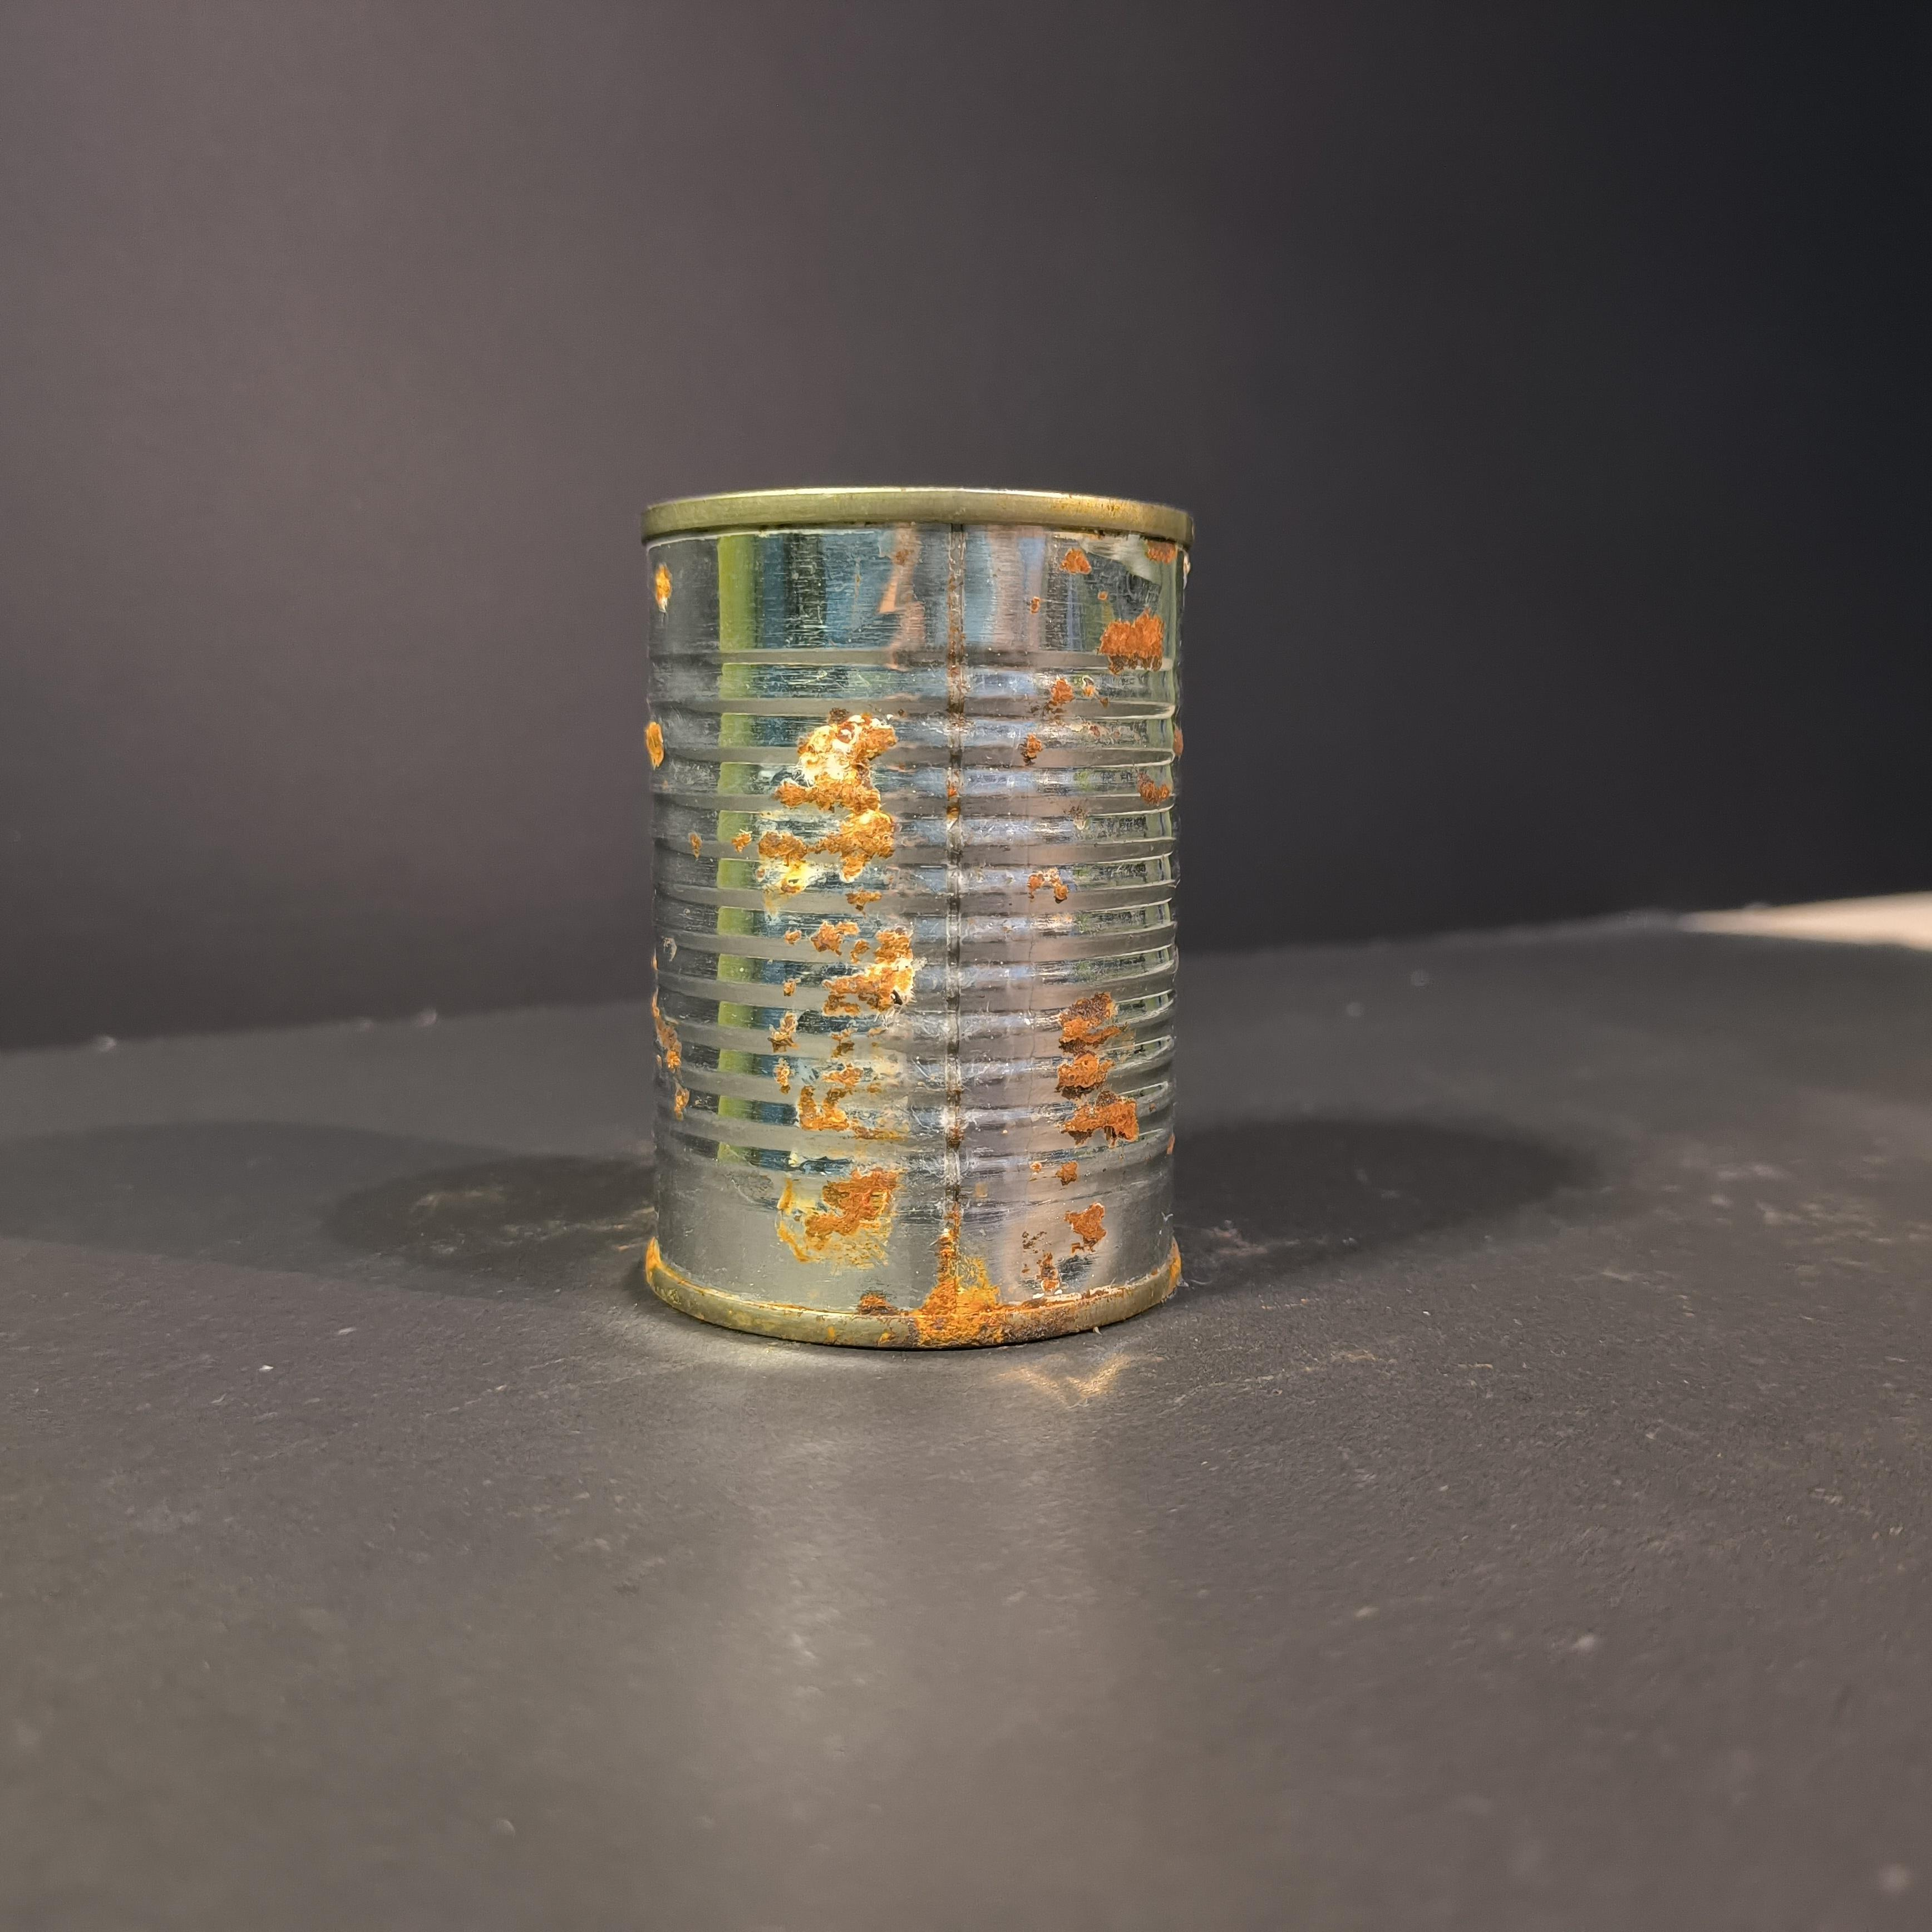Rusted: (628, 472, 1214, 1330)
